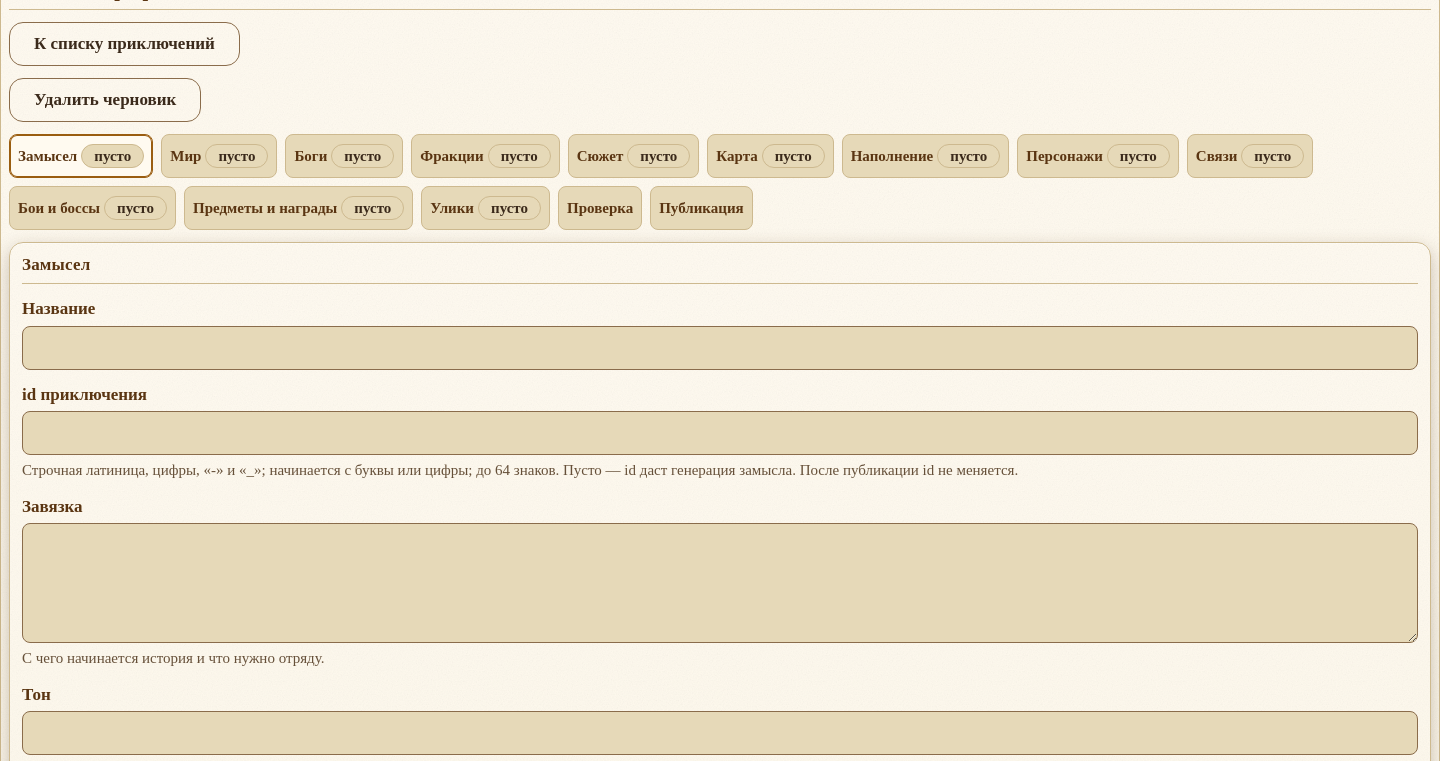
it: шаг «Боги» › боги из черновика: поля и домены по строке
The image size is (1440, 761).
Click the button "Боги пусто". click: (344, 156)
box: [286,134,403,178]
(page scrolled)
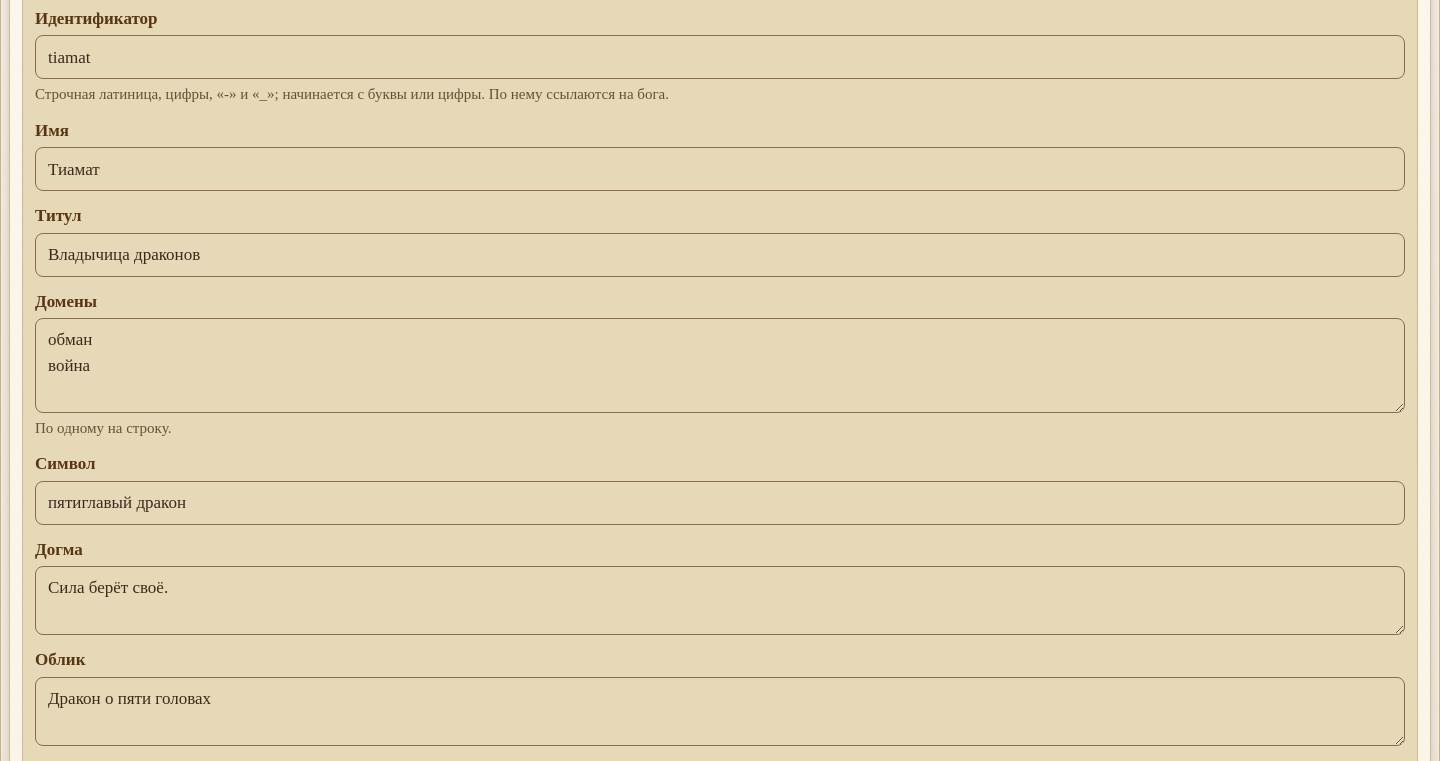
Check: the field labelled "Имя" holds "Тиамат", box [35,147,1405,191]
